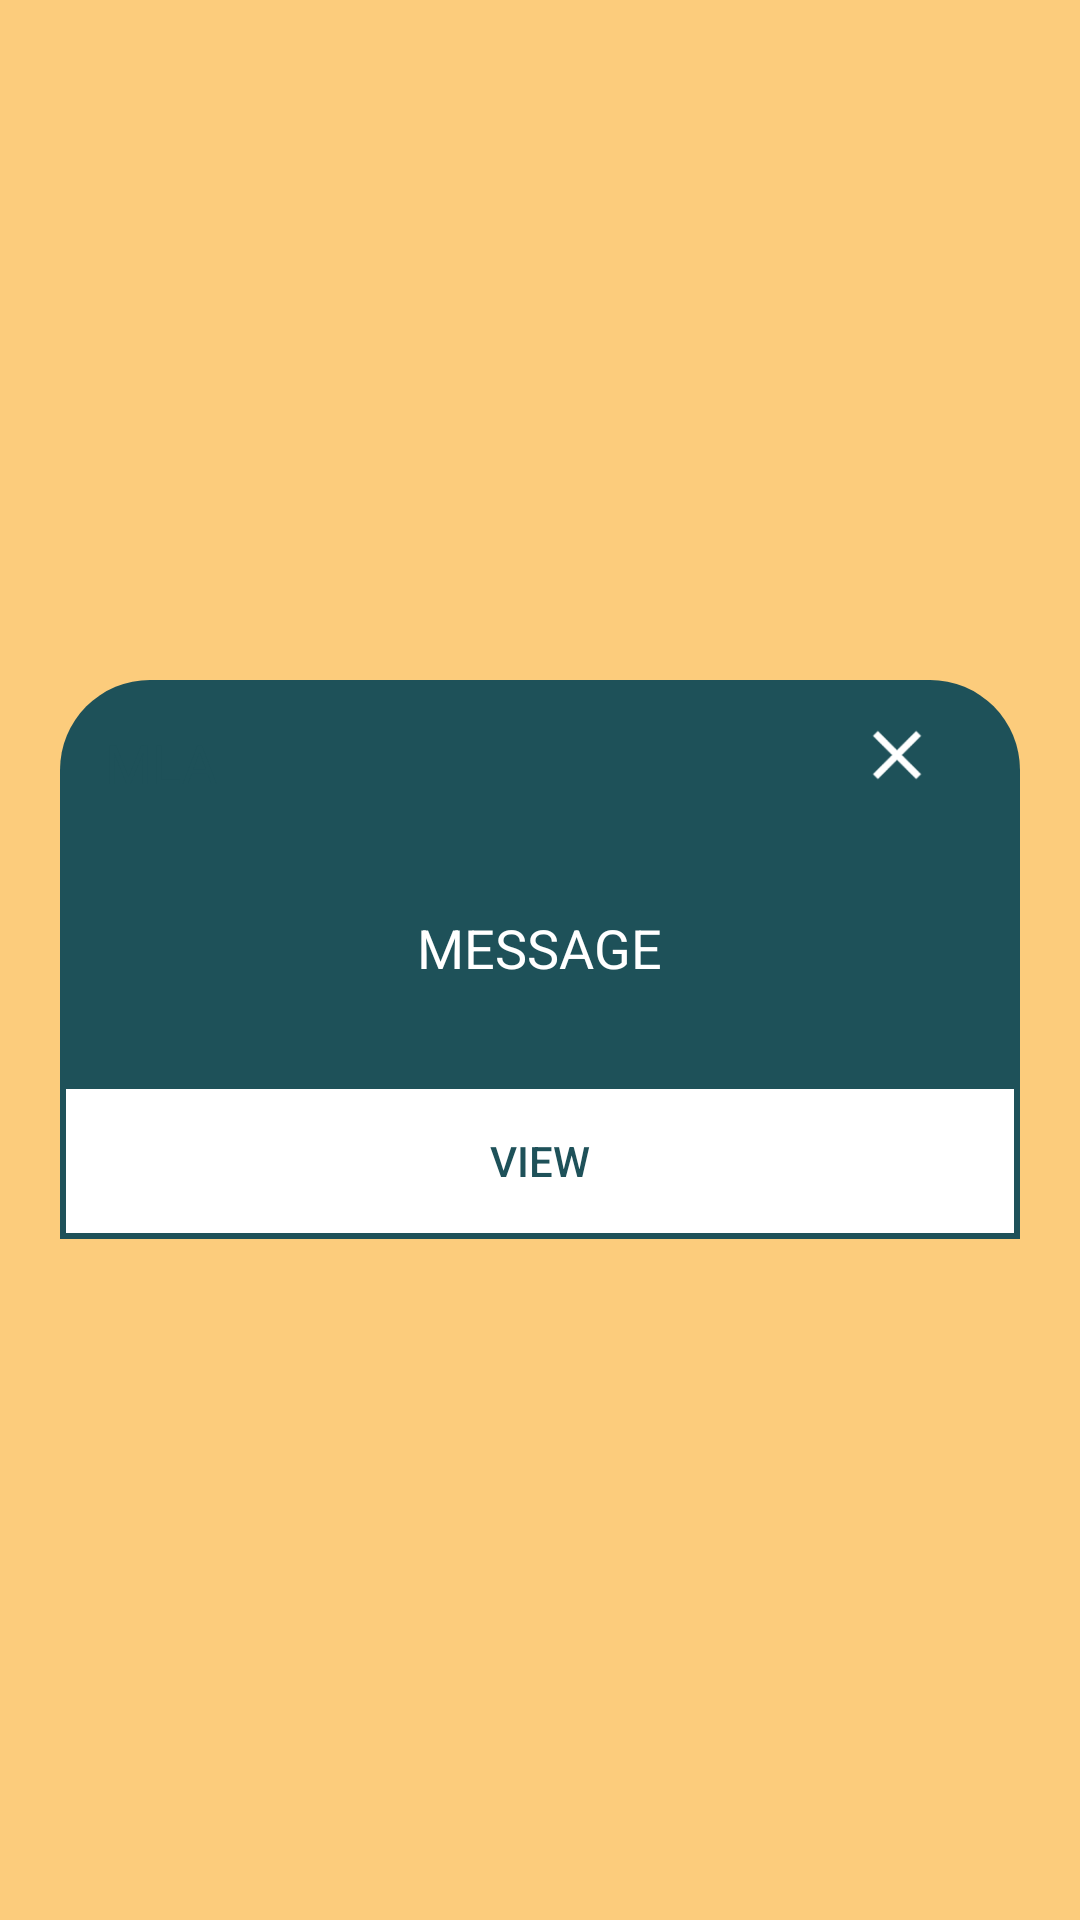

Icons on this 1080 x 1920 Android screen, each with its box as (x1=x1, y1=y1, x2=x2, y2=y2):
close: (x1=873, y1=731, x2=921, y2=779)
